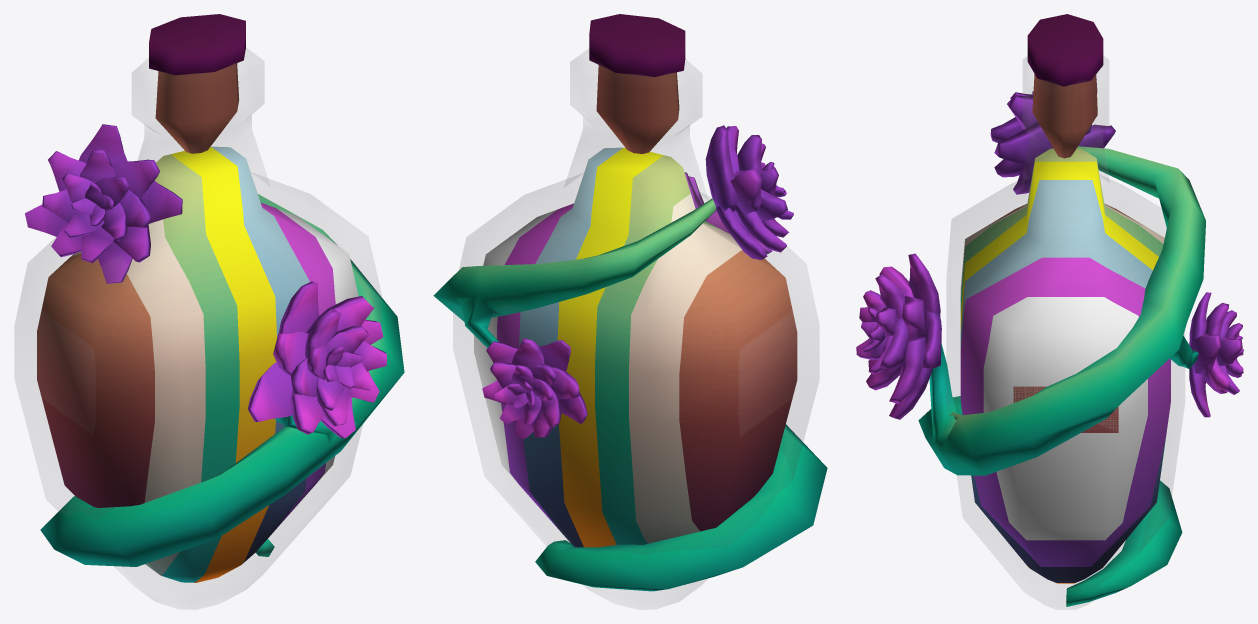
Rendered from FlowerPotion.fbx.
3 renders of one model, left to right at view 1: azimuth 30°, elevation 25°; view 2: azimuth 150°, elevation 25°; view 3: azimuth 270°, elevation 25°, orthographic.
Visible parts, largest first — view 1: Liquid, Flowers, FlowerPotion, Extra1; view 2: Liquid, Flowers, FlowerPotion, Extra1; view 3: Liquid, Flowers, FlowerPotion, Extra1.
Boxes of the visible parts, <box> form: Liquid: <box>37,146,358,582</box>; Flowers: <box>25,124,404,566</box>; FlowerPotion: <box>15,48,381,609</box>; Extra1: <box>149,14,245,153</box>; Liquid: <box>474,147,797,547</box>; Flowers: <box>433,125,827,591</box>; FlowerPotion: <box>453,49,818,609</box>; Extra1: <box>589,14,685,153</box>; Liquid: <box>960,148,1170,583</box>; Flowers: <box>856,78,1243,606</box>; FlowerPotion: <box>947,56,1184,609</box>; Extra1: <box>1027,14,1103,158</box>.
Size of the model in its own units: 1.12 by 1.77 by 1.11.
2 materials, 1 textured.
